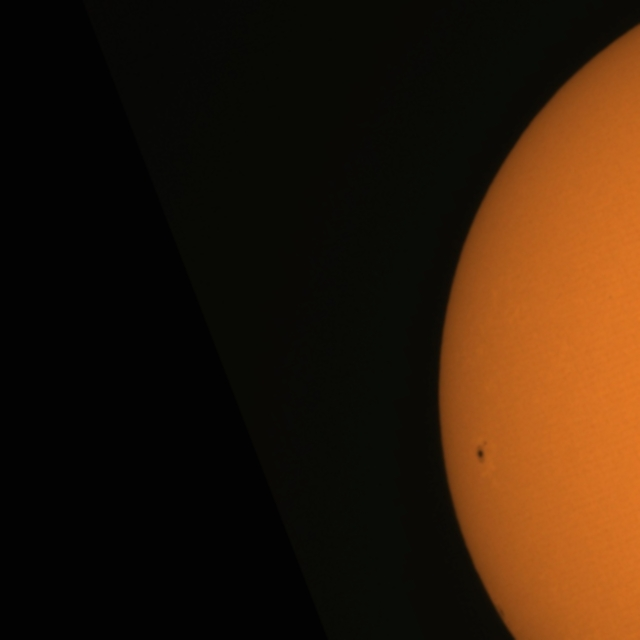sunspot: (474, 438, 489, 465)
